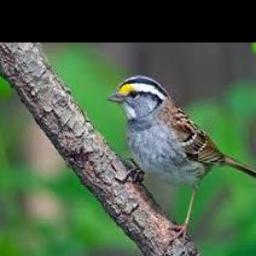Sparrow: (109, 75, 256, 245)
